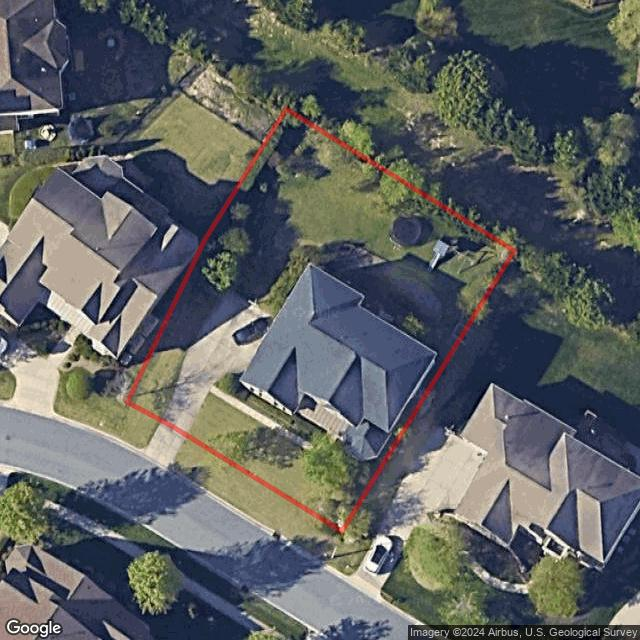Driveway: (158, 289, 275, 437)
Extra-Driveway: (144, 419, 189, 467)
Extra-Lawn: (173, 434, 343, 561), (111, 400, 159, 453)
House: (240, 262, 436, 460)
Lawn: (127, 109, 515, 532)
Other: (251, 241, 442, 352), (390, 216, 422, 246), (429, 240, 450, 271)
Sidewalk: (210, 385, 340, 459)
